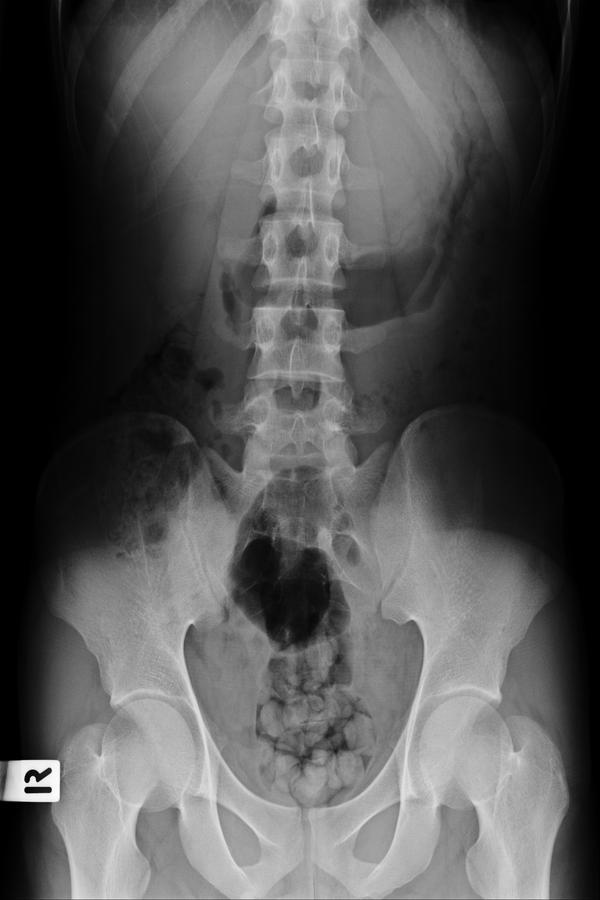not lumbar scoliosis: (241, 130, 350, 568)
